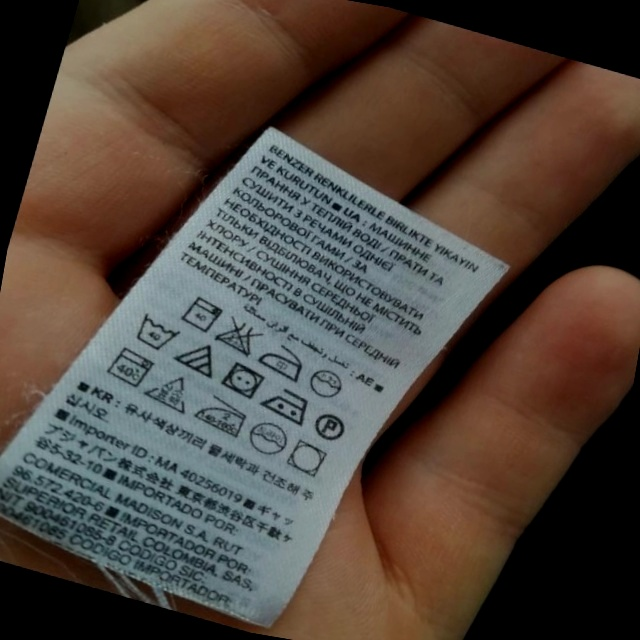40C: (132, 310, 186, 357), (107, 343, 157, 392), (181, 292, 226, 338)
dry_clean: (245, 416, 294, 460), (305, 363, 350, 406)
dry_clean_any_solvent_except_trichloroethylene: (311, 408, 351, 445)
iron: (256, 339, 311, 383)
iron_medium: (192, 393, 253, 440), (261, 383, 314, 426)
non_chlorine_bleach: (146, 369, 198, 418), (174, 337, 224, 381)
tumble_dry_medium: (218, 357, 271, 403)
tumble_dry_normal: (282, 436, 333, 484)
